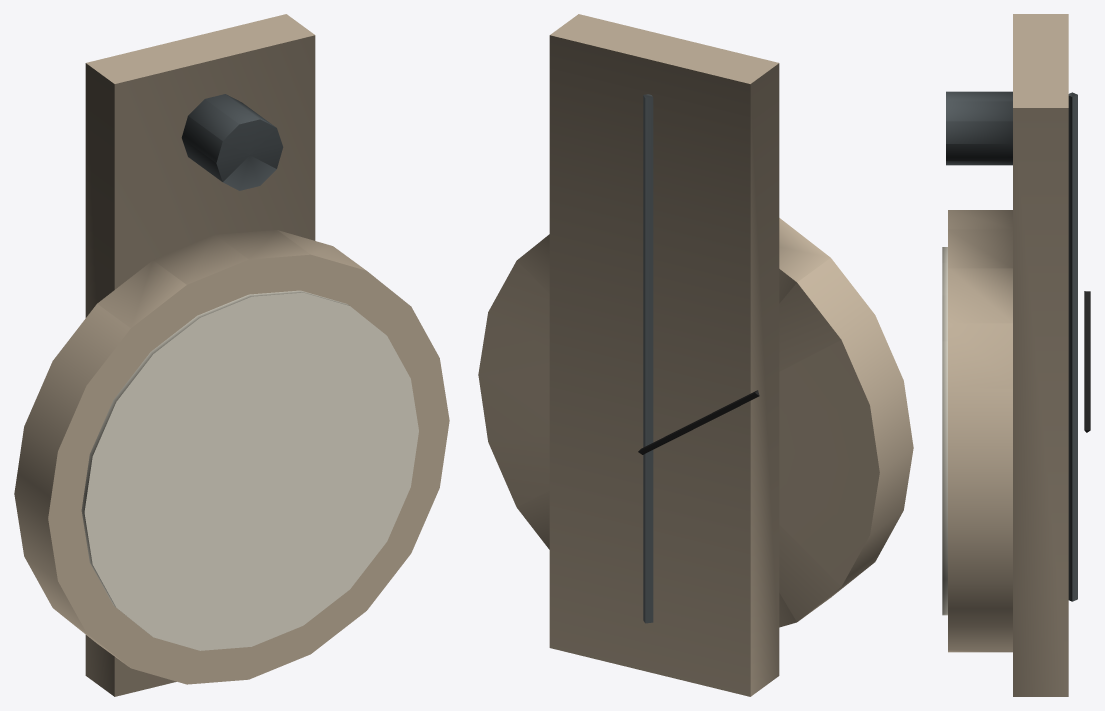
The model's file is barometer.glb.
3 renders of one model, left to right at view 1: azimuth 30°, elevation 25°; view 2: azimuth 150°, elevation 25°; view 3: azimuth 270°, elevation 25°, orthographic. The views are drawn at different scales.
Visible parts, largest first — view 1: static; view 2: static; view 3: static.
Boxes of the visible parts, x1,y1,x2,y2 form: static: (14, 14, 449, 696); static: (478, 14, 913, 696); static: (942, 14, 1090, 696).
Bounding box in the file's own units: 0.24 × 0.35 × 0.0798.
